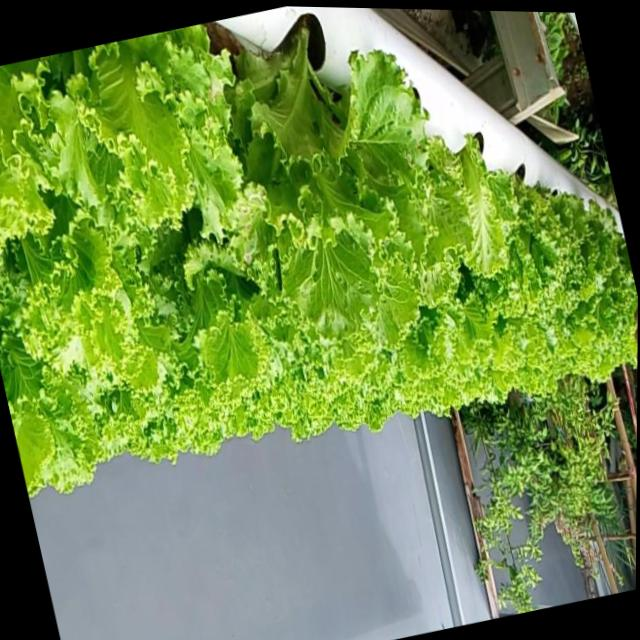Mature: (0, 9, 638, 490), (212, 10, 458, 334), (468, 161, 586, 316)
